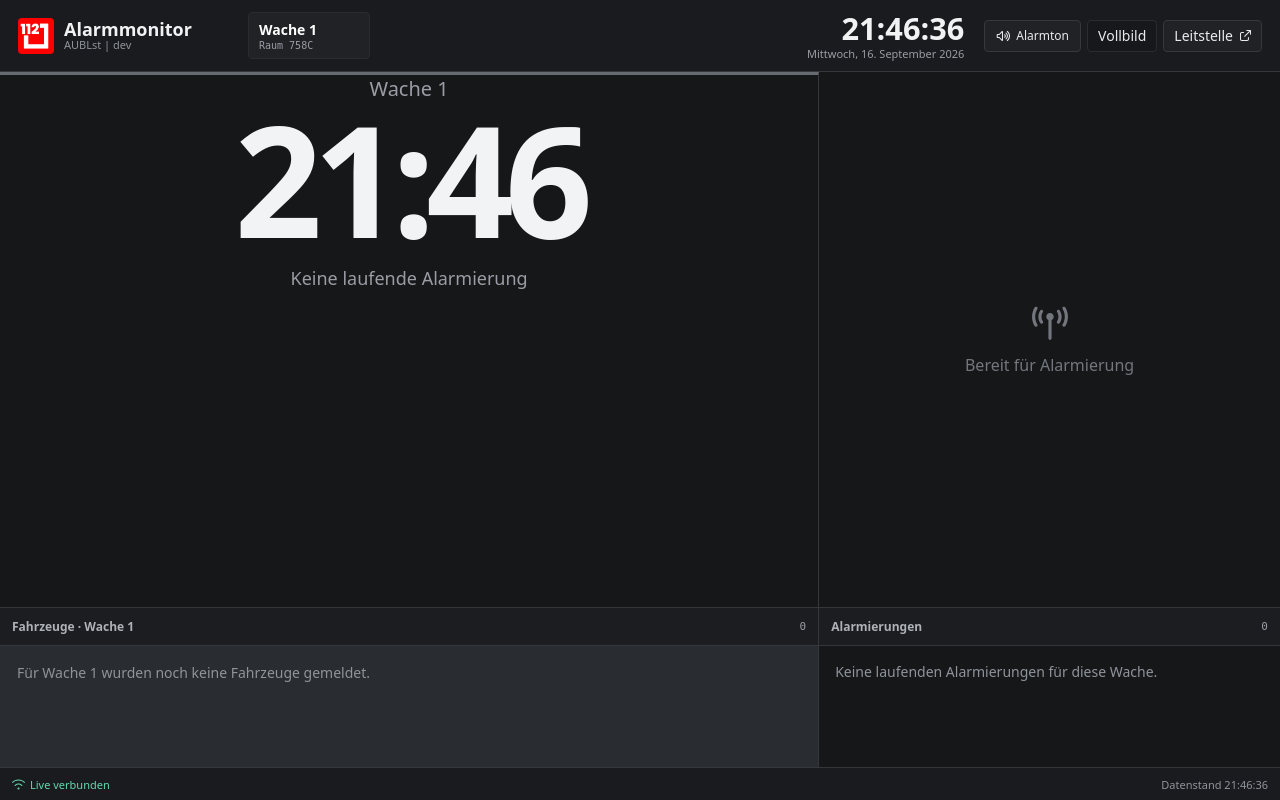
Spieler-Alarmmonitor › ordnet die Alarmton-Einstellungen als beschriftete Schalter an
The width and height of the screenshot is (1280, 800).
Click the heading "Alarmton": (1033, 36) [984, 20, 1081, 52]
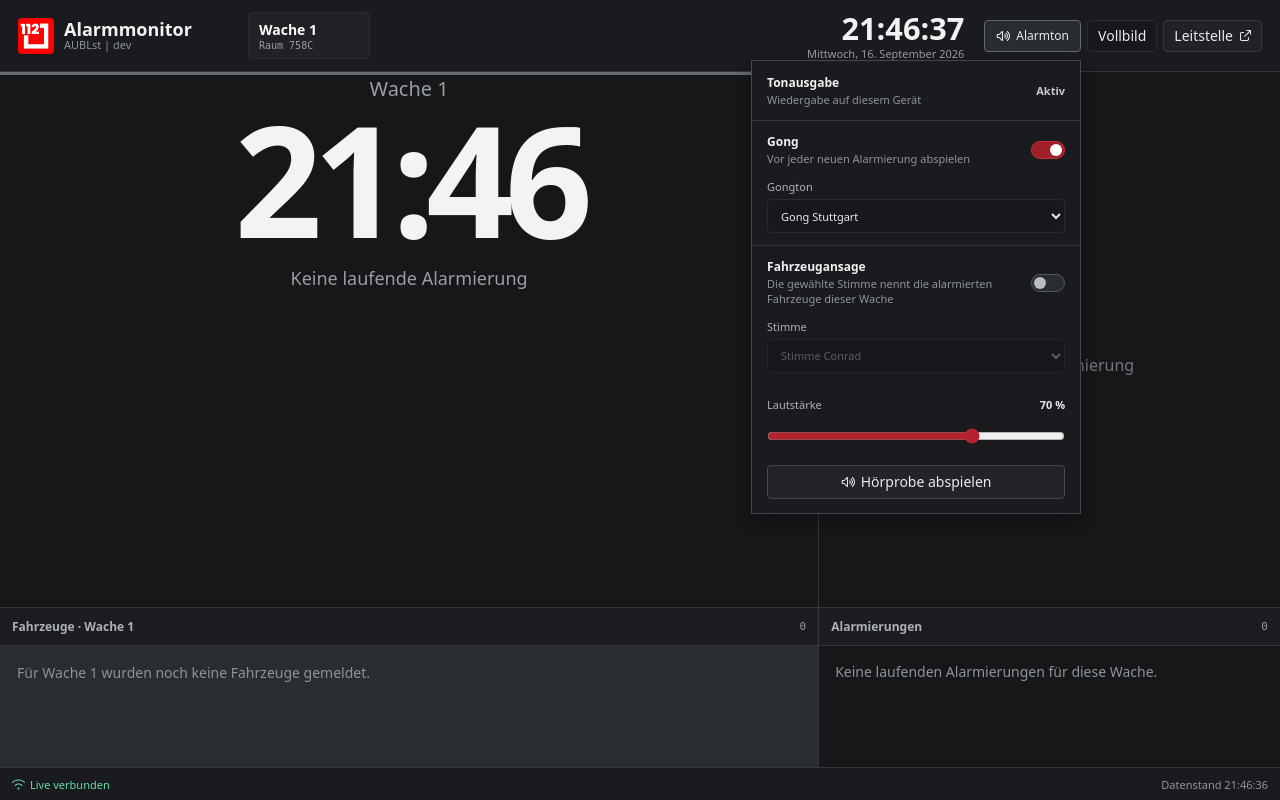
Now the text "Tonausgabe" is shown, box [767, 74, 839, 90]
Now the checkbox named "Gong abspielen" is shown, box [1031, 141, 1065, 159]
Now the checkbox named "Fahrzeugansage abspielen" is shown, box [1031, 274, 1065, 292]
